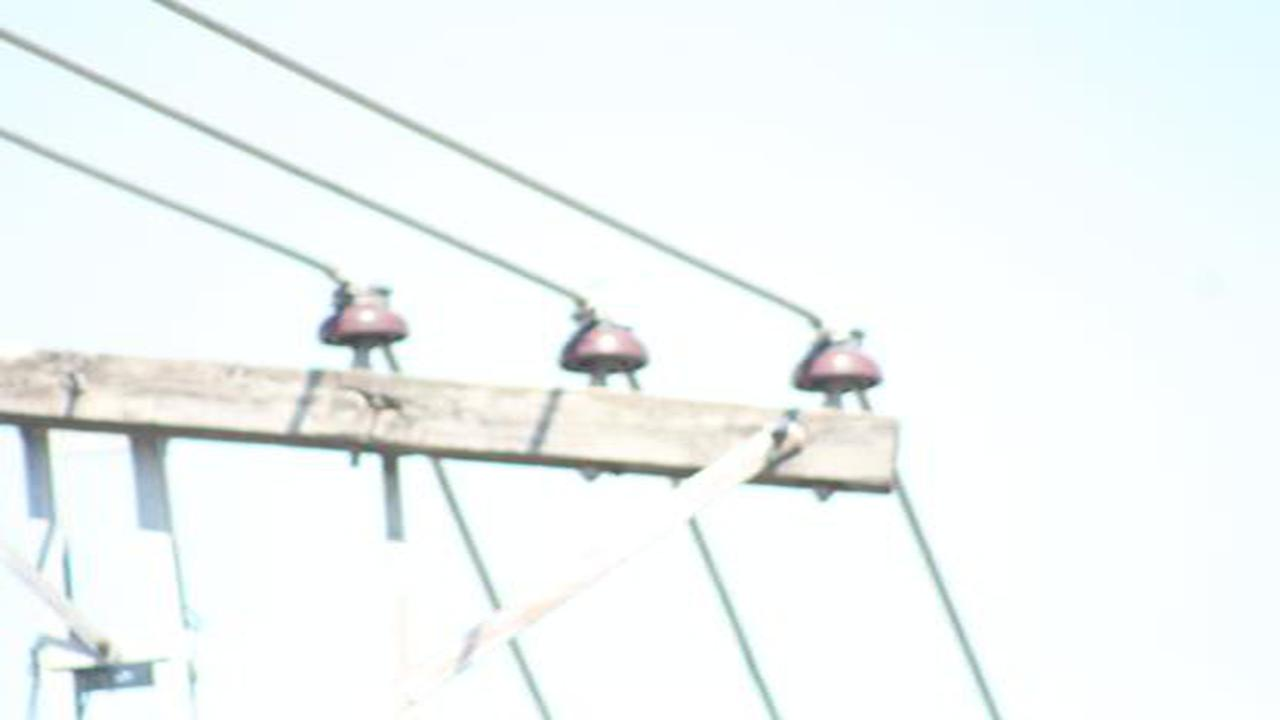insulator_pin: (786, 323, 890, 400), (316, 277, 411, 351), (555, 303, 649, 376)
